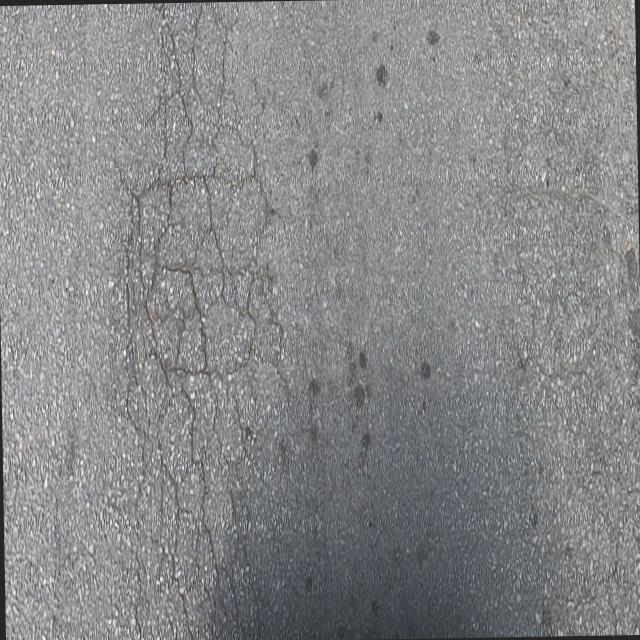Retak-Buaya: (109, 3, 283, 640)
